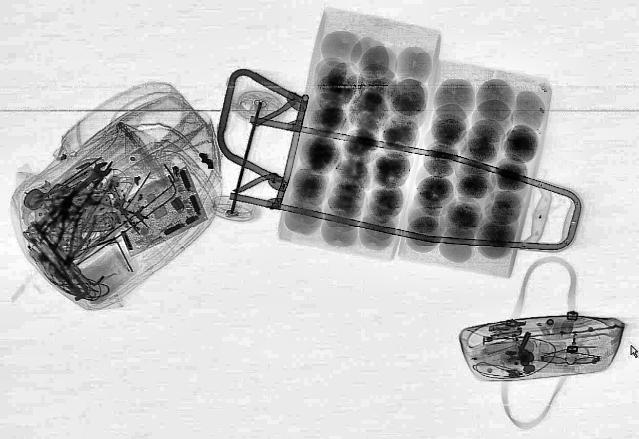Pliers: (55, 207, 100, 269)
Wrench: (22, 160, 117, 230)
